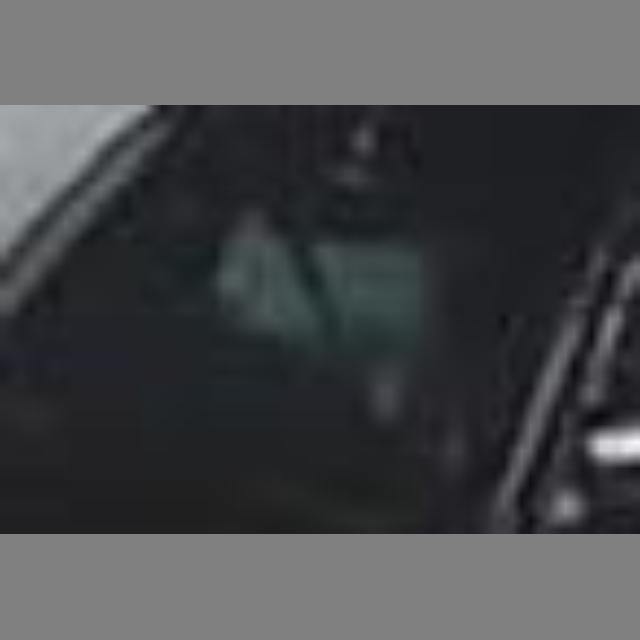pakai: (175, 166, 456, 464)
